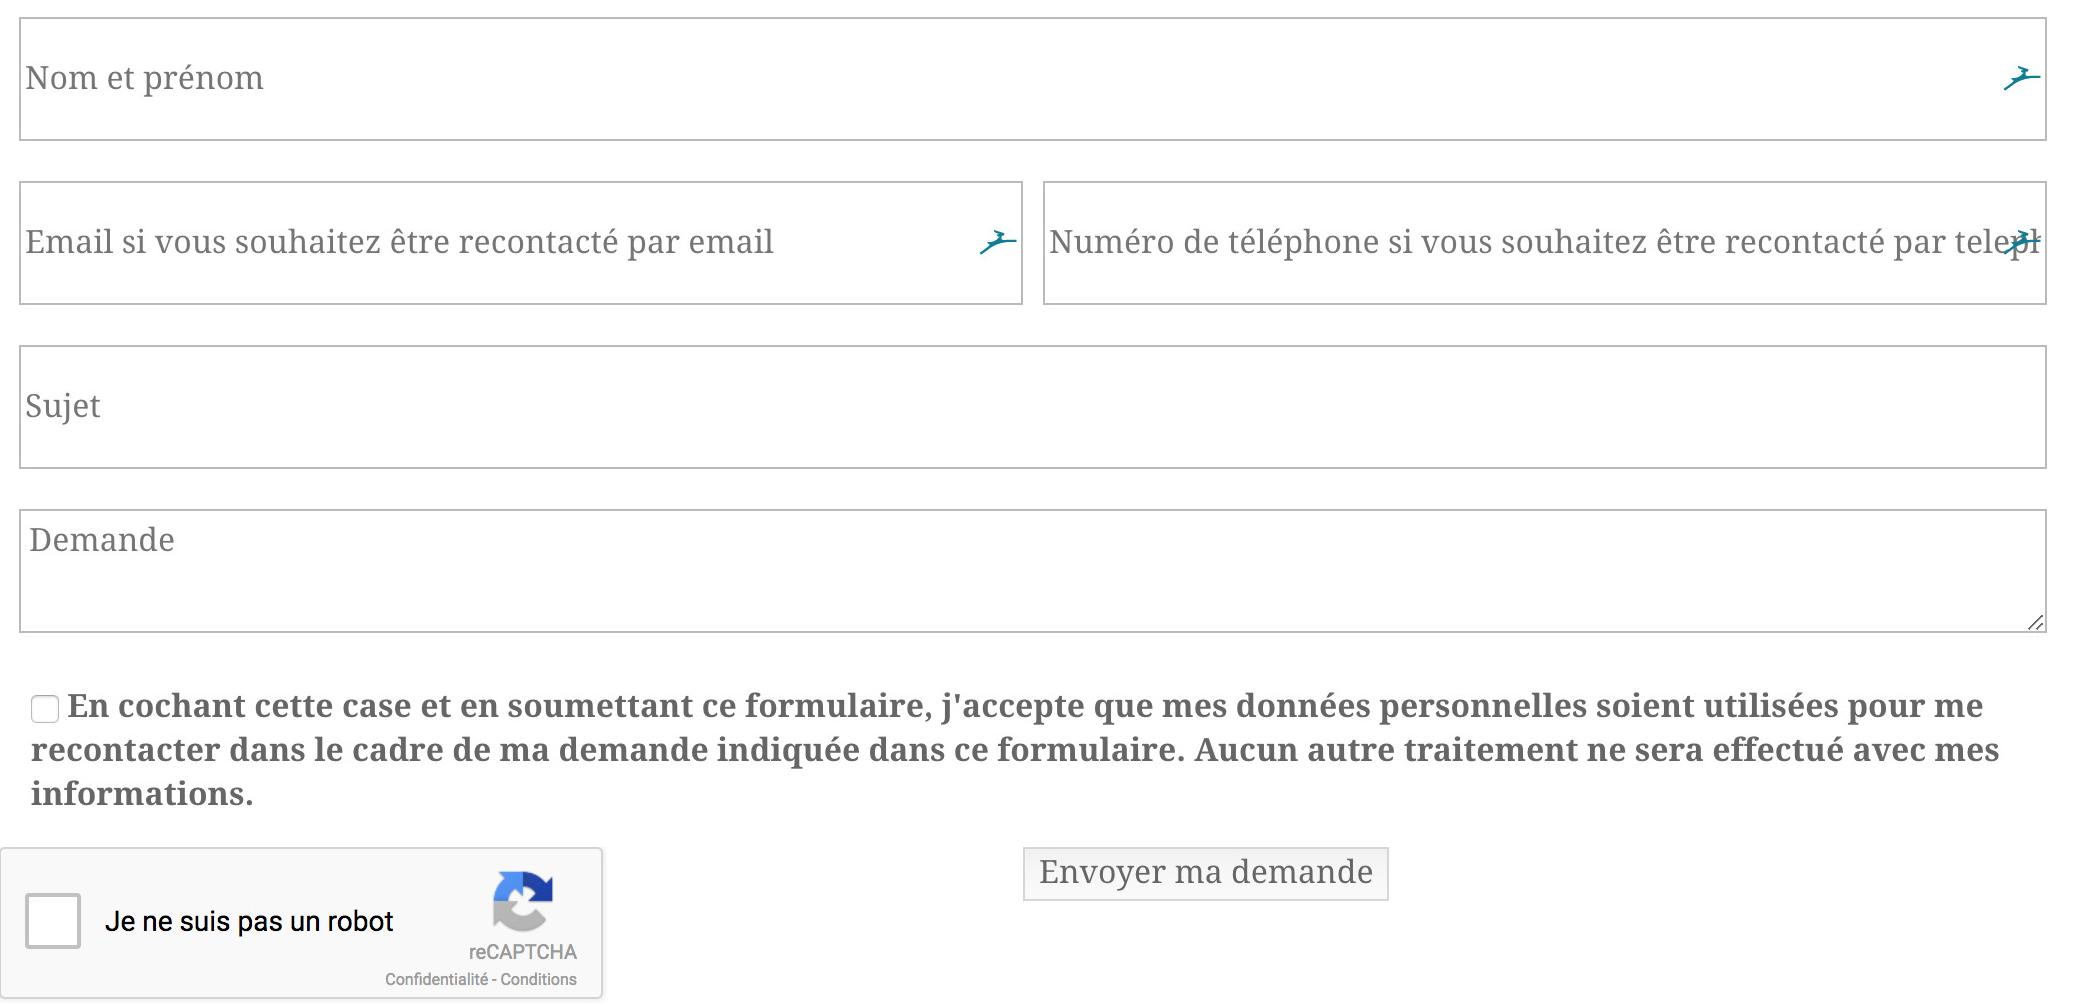button: (1015, 841, 1400, 907)
checkbox: (12, 887, 93, 954), (17, 681, 74, 738)
checkbox_with_label: (12, 675, 1987, 740), (4, 879, 396, 962)
field: (19, 508, 2058, 643), (17, 342, 2050, 477), (15, 15, 2050, 148), (17, 179, 1029, 310), (1035, 177, 2050, 306)
